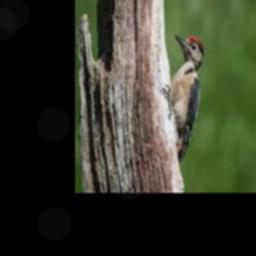Woodpecker: (170, 35, 204, 163)
